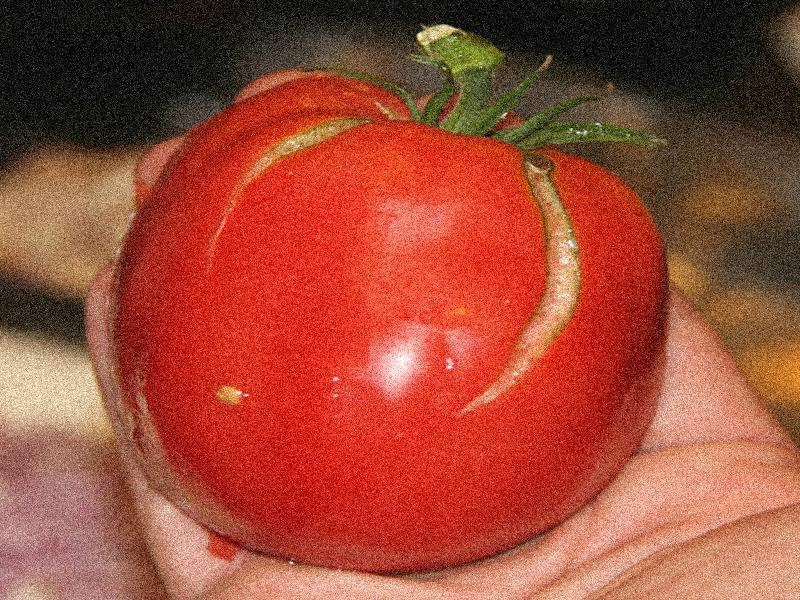Tomato: (111, 76, 660, 572)
